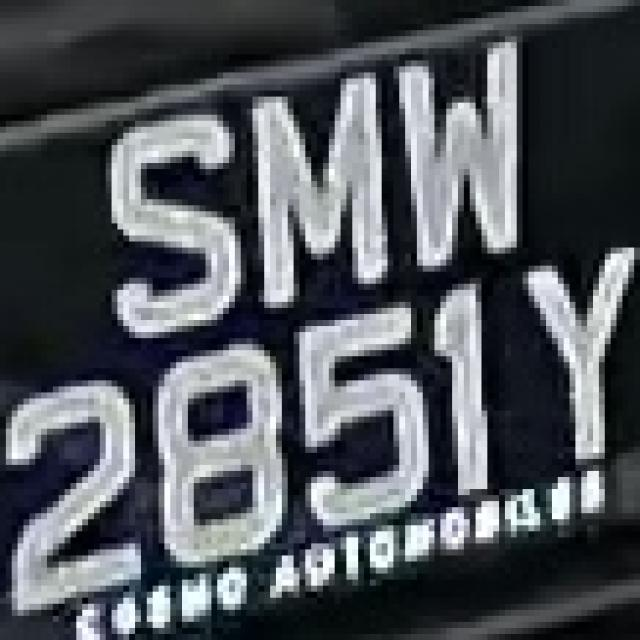1: (440, 236, 499, 513)
2: (11, 344, 152, 622)
5: (294, 290, 441, 543)
8: (141, 332, 305, 574)
M: (235, 54, 393, 320)
S: (88, 103, 253, 332)
W: (370, 24, 540, 284)
Y: (493, 254, 640, 471)
